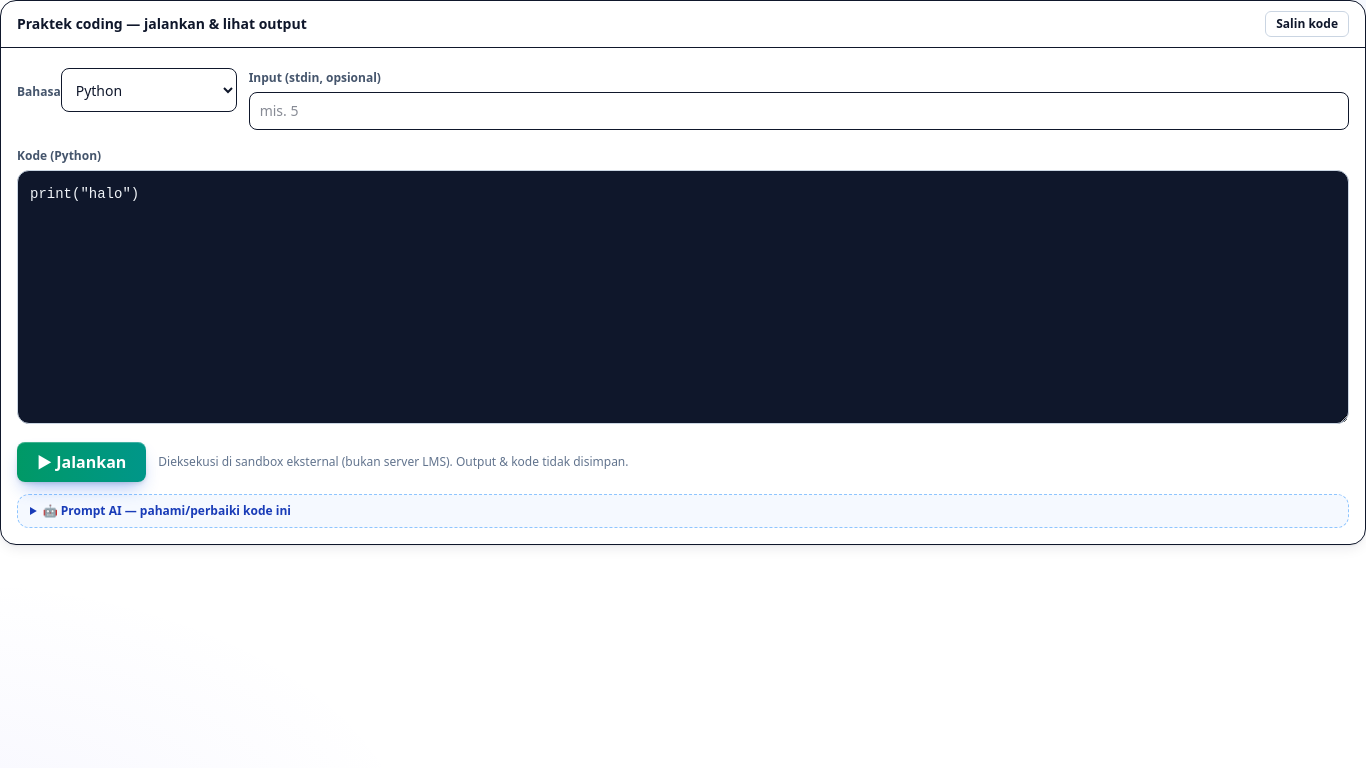
Test case: CodeRunner › runner nonaktif di server → pesan fail-closed (bukan diam)
Click the button "▶ Jalankan" at (82, 462), box [17, 442, 146, 482]
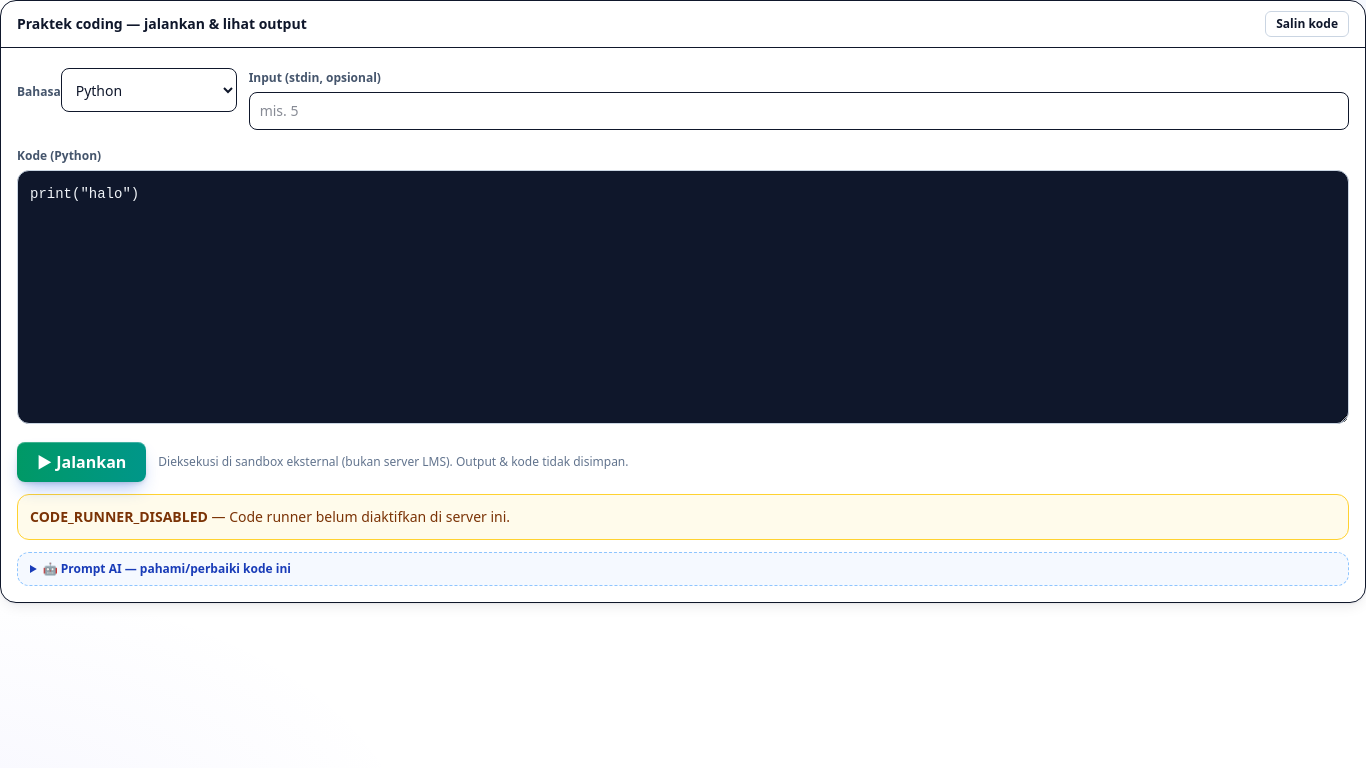
Expected: the message shows "CODE_RUNNER_DISABLED", [30, 506, 208, 526]
Expected: the message shows "belum diaktifkan", [229, 506, 510, 526]
